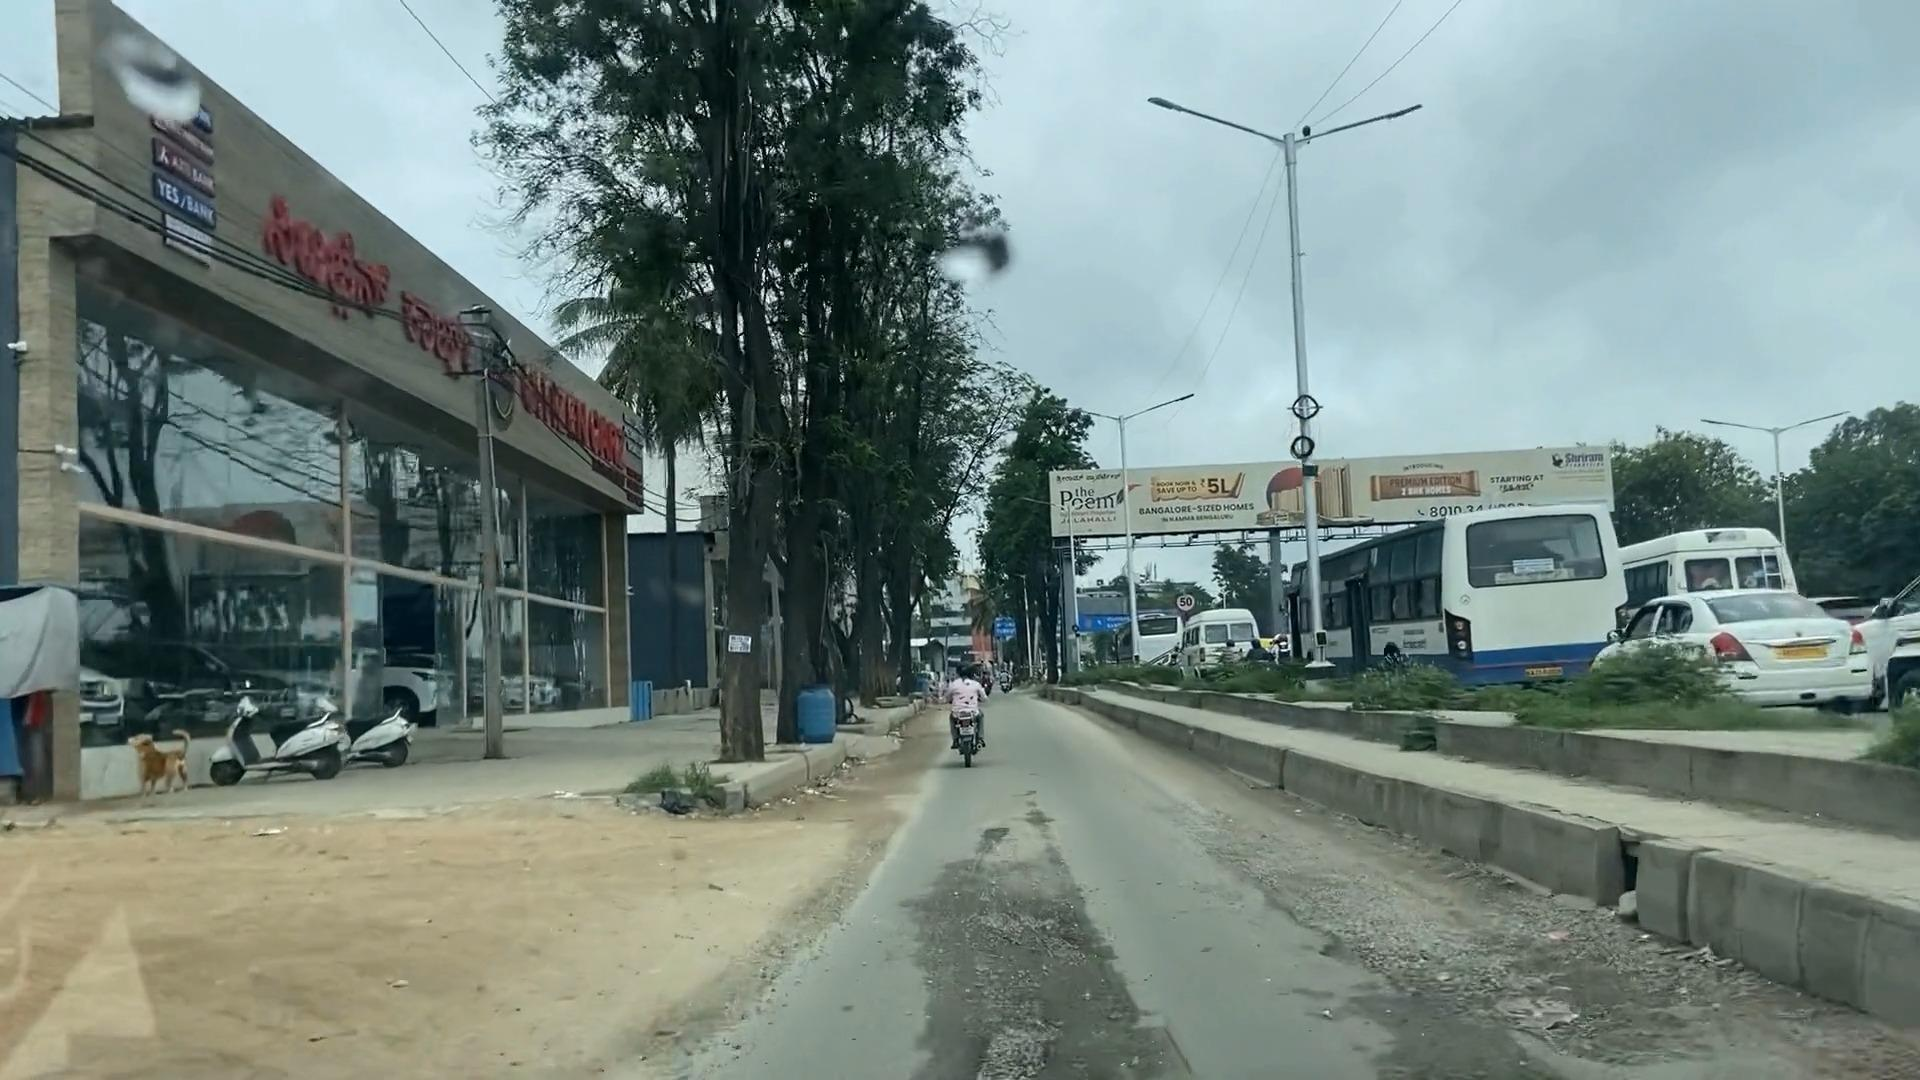RoadDamages: (1304, 833, 1643, 1080), (907, 803, 1129, 1080)
